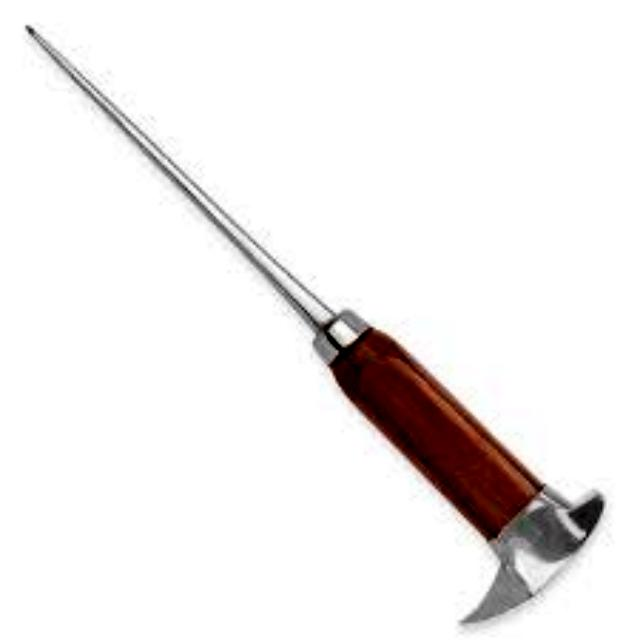ice pick: (1, 18, 612, 634)
